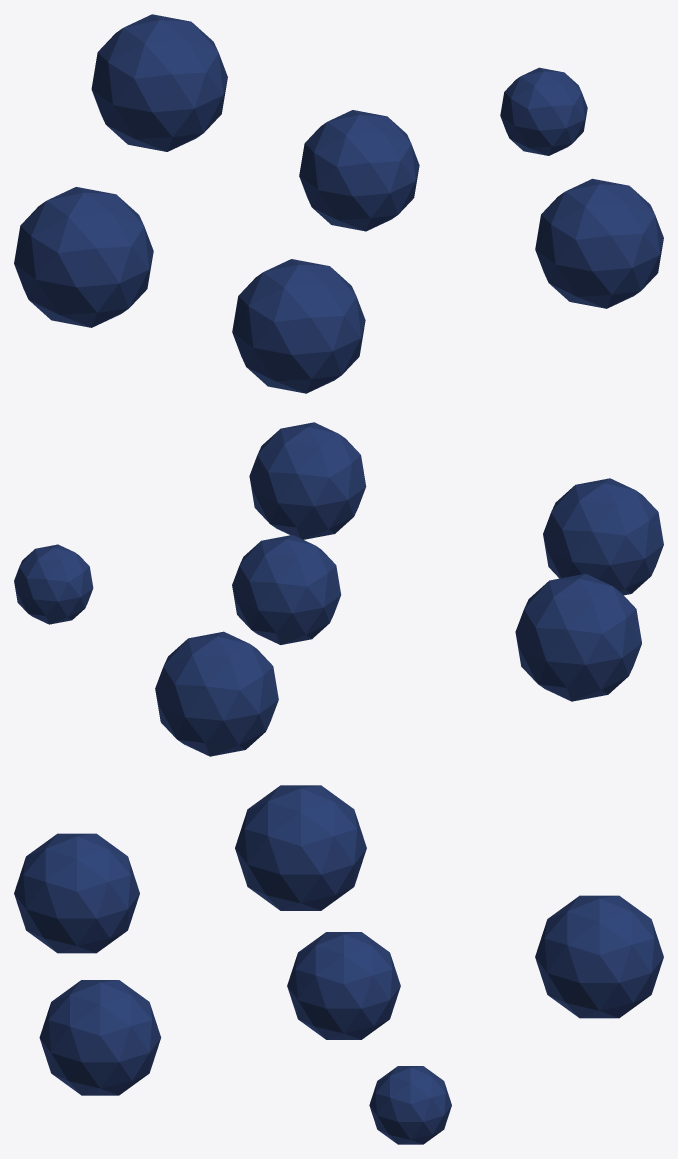
Rendered from blueberries_1_small.fbx.
3 views of the same model, one above another, from view 1: azimuth 30°, elevation 25°; view 2: azimuth 150°, elevation 25°; view 3: azimuth 270°, elevation 25° (orthographic). The views are drawn at different scales.
Visible parts, largest first — view 1: blueberry_1_small; view 2: blueberry_1_small; view 3: blueberry_1_small.
Boxes of the visible parts, box(x1,y1,x2,y2) form: blueberry_1_small: box(14, 14, 663, 393); blueberry_1_small: box(14, 422, 663, 756); blueberry_1_small: box(14, 785, 663, 1144).
Bounding box in the file's own units: 4.06 × 0.8247 × 4.02.
